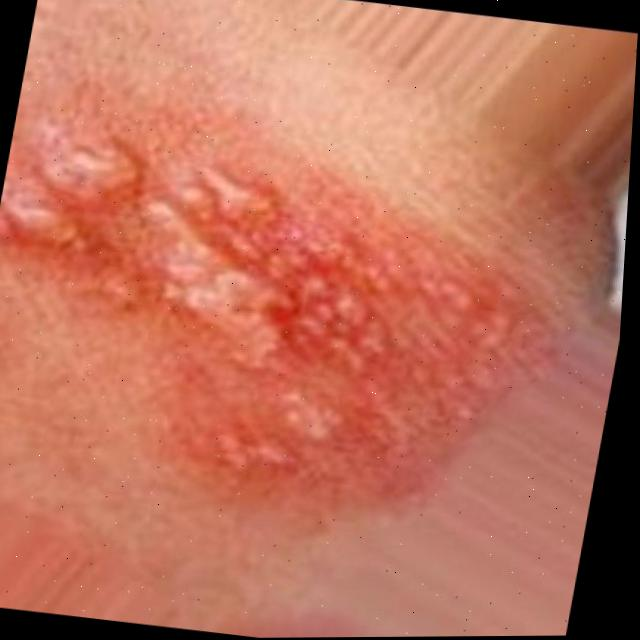Shingles: (0, 110, 494, 466)
